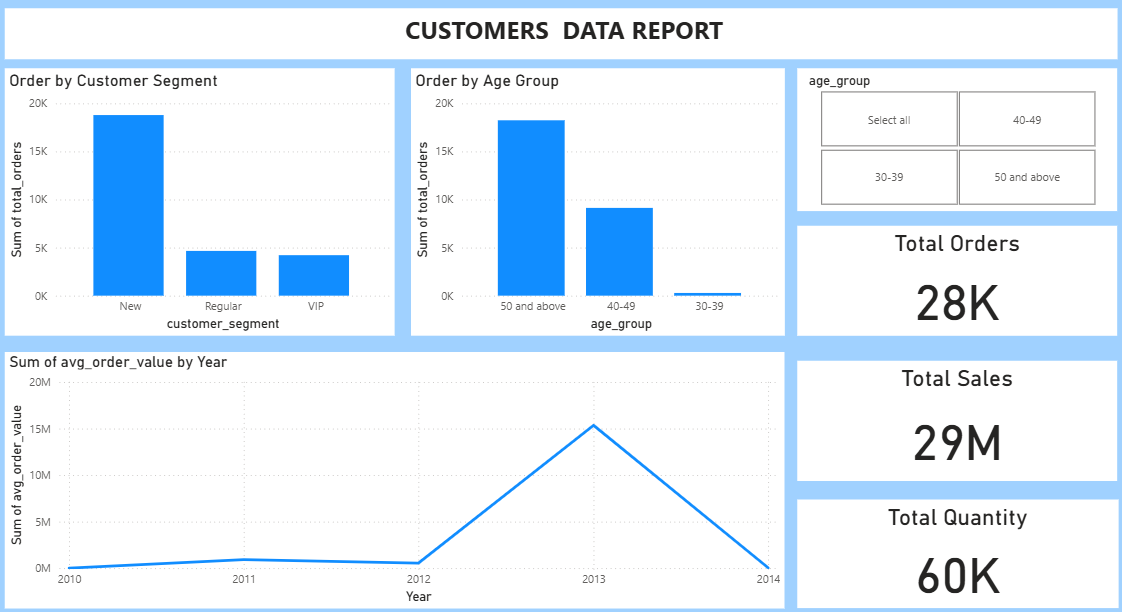

The page's visual inventory and layout, read from the dashboard file:
{"tool":"powerbi","page":{"name":"Page 1","canvas":[1280,720],"ordinal":0},"visuals":[{"type":"card","title":"Total Orders","fields":{"Values":["Sum(gold report_customers.total_orders)"]},"box":[907,273.1,351.3,120.8],"z":0},{"type":"card","title":"Total Quantity","fields":{"Values":["Sum(gold report_customers.total_quantity)"]},"box":[907,573.6,352.7,119.4],"z":1},{"type":"card","title":"Total Sales","fields":{"Values":["Sum(gold report_customers.total_sales)"]},"box":[907,421.3,351.3,131.7],"z":2},{"type":"clusteredColumnChart","title":"Order by Customer Segment","fields":{"Category":["gold report_customers.customer_segment"],"Y":["Sum(gold report_customers.total_orders)"]},"box":[37,100.2,428.1,293.7],"z":3},{"type":"clusteredColumnChart","title":"Order by Age Group","fields":{"Category":["gold report_customers.age_group"],"Y":["Sum(gold report_customers.total_orders)"]},"box":[483,100.2,410.3,293.7],"z":4},{"type":"lineChart","fields":{"Category":["gold report_customers.last_order_date.Variation.Date Hierarchy.Year"],"Y":["Sum(gold report_customers.avg_order_value)"]},"box":[37,411.7,856.3,281.3],"z":5},{"type":"slicer","fields":{"Values":["gold report_customers.age_group"]},"box":[907,100.2,351.3,156.4],"z":6},{"type":"textbox","box":[37,34.3,1221.3,56.3],"z":7}]}

Visuals, with their boxes on the page's 1280x720 design canvas (x1, y1, x2, y2). These are canvas units, not pixel positions in the 1122x612 screenshot, which may show the page scaled, cropped or inside an application window:
"Total Orders" card: pyautogui.locateOnScreen(907, 273, 1258, 394)
"Total Quantity" card: pyautogui.locateOnScreen(907, 574, 1260, 693)
"Total Sales" card: pyautogui.locateOnScreen(907, 421, 1258, 553)
"Order by Customer Segment" clusteredColumnChart: pyautogui.locateOnScreen(37, 100, 465, 394)
"Order by Age Group" clusteredColumnChart: pyautogui.locateOnScreen(483, 100, 893, 394)
lineChart - gold report_customers.last_order_date.Variation.Date Hierarchy.Year x Sum(gold report_customers.avg_order_value): pyautogui.locateOnScreen(37, 412, 893, 693)
slicer - gold report_customers.age_group: pyautogui.locateOnScreen(907, 100, 1258, 257)
textbox: pyautogui.locateOnScreen(37, 34, 1258, 91)
